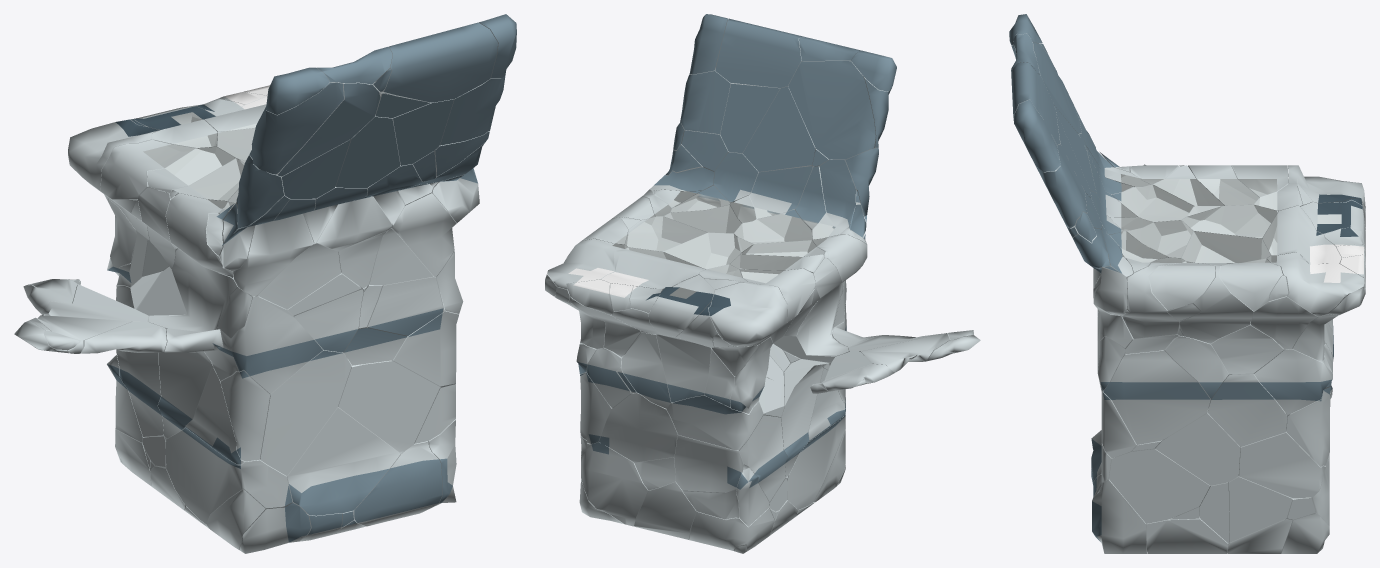
File: Office Printer.fbx
3 views of the same model, side by side, from view 1: azimuth 30°, elevation 25°; view 2: azimuth 150°, elevation 25°; view 3: azimuth 270°, elevation 25° (orthographic). The views are drawn at different scales.
Visible parts, largest first — view 1: Node_cell.028, Node_cell.035, Node_cell.147, Node_cell.264, Node_cell.227, Node_cell.093, Node_cell.228, Node_cell.125, Node_cell.110, Node_cell.040, Node_cell.071, Node_cell.280 (+59 smaller); view 2: Node_cell.152, Node_cell.035, Node_cell.043, Node_cell.282, Node_cell.253, Node_cell.233, Node_cell.002, Node_cell.109, Node_cell.071, Node_cell.145, Node_cell.010, Node_cell.040 (+57 smaller); view 3: Node_cell.261, Node_cell.272, Node_cell.243, Node_cell.281, Node_cell.143, Node_cell.161, Node_cell.258, Node_cell.037, Node_cell.073, Node_cell.263, Node_cell.094, Node_cell.145 (+47 smaller).
Boxes of the visible parts, x1,y1,x2,y2 form: Node_cell.028: (287,407,400,515); Node_cell.035: (381,22,497,102); Node_cell.147: (260,348,351,475); Node_cell.264: (165,428,292,524); Node_cell.227: (204,296,322,394); Node_cell.093: (338,358,440,453); Node_cell.228: (354,441,442,526); Node_cell.125: (233,198,315,296); Node_cell.110: (251,82,343,174); Node_cell.040: (149,248,241,331); Node_cell.071: (158,351,212,438); Node_cell.280: (392,292,459,387); Node_cell.152: (788,60,875,160); Node_cell.035: (715,18,804,87); Node_cell.043: (709,282,787,346); Node_cell.282: (599,392,678,462); Node_cell.253: (743,86,815,172); Node_cell.233: (581,442,648,526); Node_cell.002: (666,395,763,450); Node_cell.109: (674,435,743,493); Node_cell.071: (781,359,828,476); Node_cell.145: (601,247,705,292); Node_cell.010: (812,160,866,239); Node_cell.040: (773,282,848,362); Node_cell.261: (1103,350,1210,444); Node_cell.272: (1109,449,1209,523); Node_cell.243: (1207,374,1287,446); Node_cell.281: (1238,431,1325,498); Node_cell.143: (1155,410,1240,485); Node_cell.161: (1267,252,1364,316); Node_cell.258: (1254,349,1332,414); Node_cell.037: (1092,479,1147,553); Node_cell.073: (1179,263,1253,343); Node_cell.263: (1228,476,1292,542); Node_cell.094: (1120,257,1185,338); Node_cell.145: (1262,205,1341,264).
Bounding box in the file's own units: 201 × 225 × 162.
